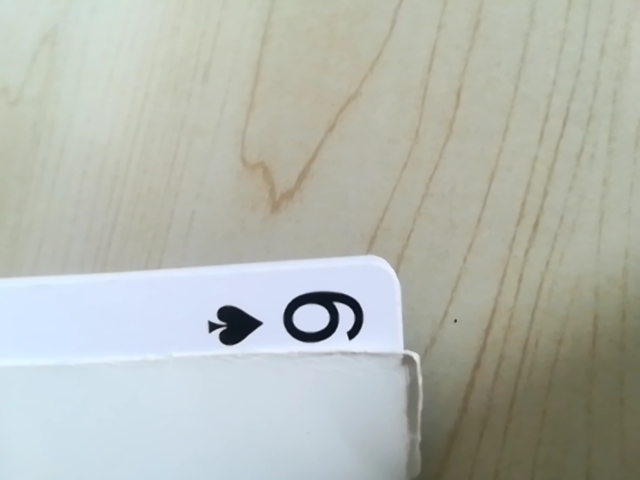ht 6: (191, 270, 392, 378)
